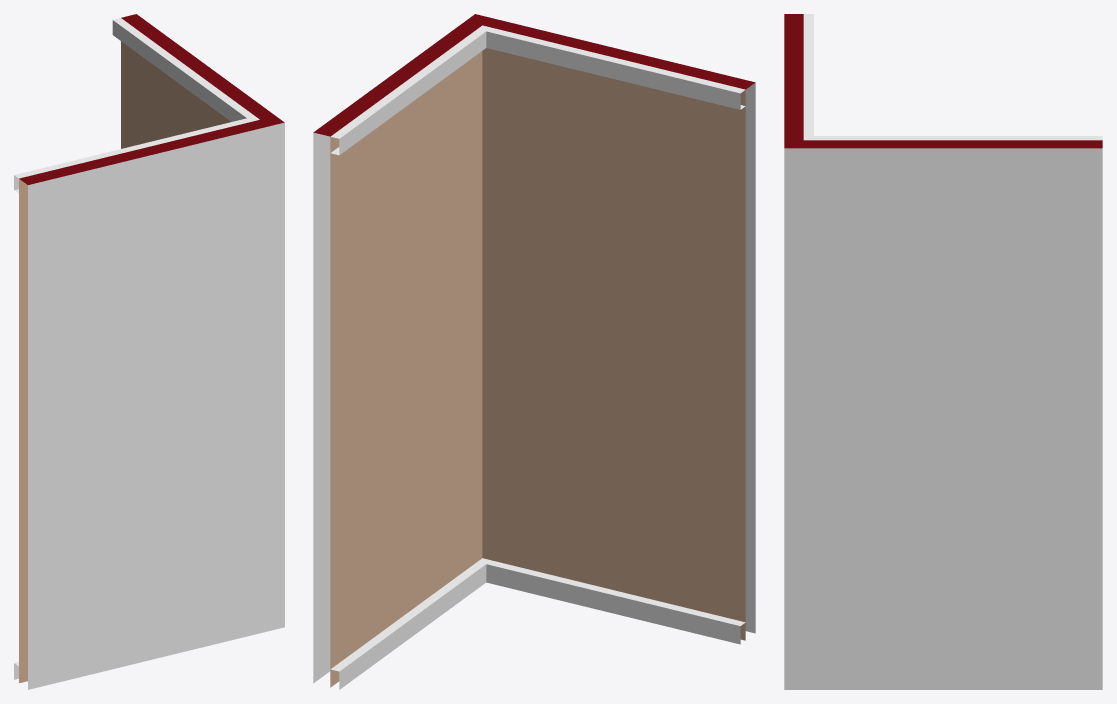
File: Wall02_corner_02.fbx
3 renders of one model, left to right at view 1: azimuth 30°, elevation 25°; view 2: azimuth 150°, elevation 25°; view 3: azimuth 270°, elevation 25°, orthographic. The views are drawn at different scales.
Visible parts, largest first — view 1: Cube.003; view 2: Cube.003; view 3: Cube.003.
Boxes of the visible parts, x1,y1,x2,y2 form: Cube.003: (14, 14, 284, 689); Cube.003: (313, 14, 755, 689); Cube.003: (784, 14, 1102, 689).
Bounding box in the file's own units: 2.13 × 4 × 2.13.
